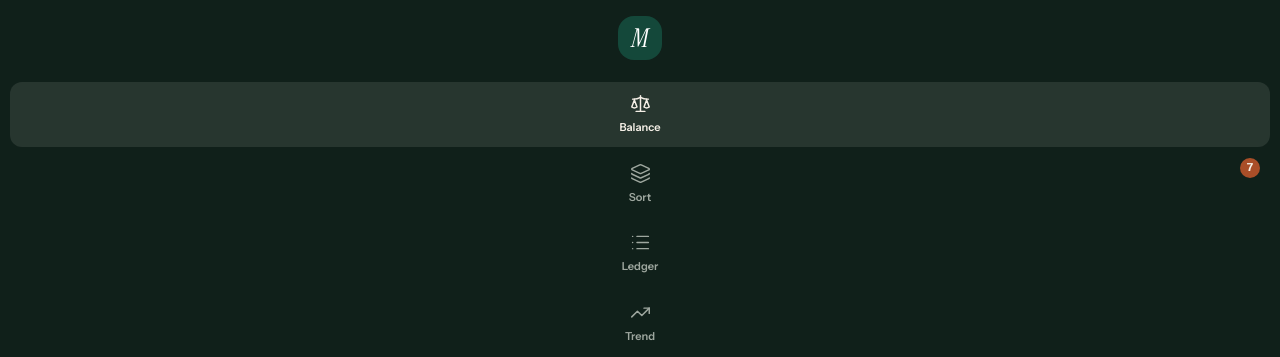
Test: AppRail › exposes four destinations and keeps the review badge on Sort
Expected: the text with class "app-rail-badge" reads "7", [1247,160,1253,174]
Click the button "Ledger" at [640, 253], box [10,221,1270,286]
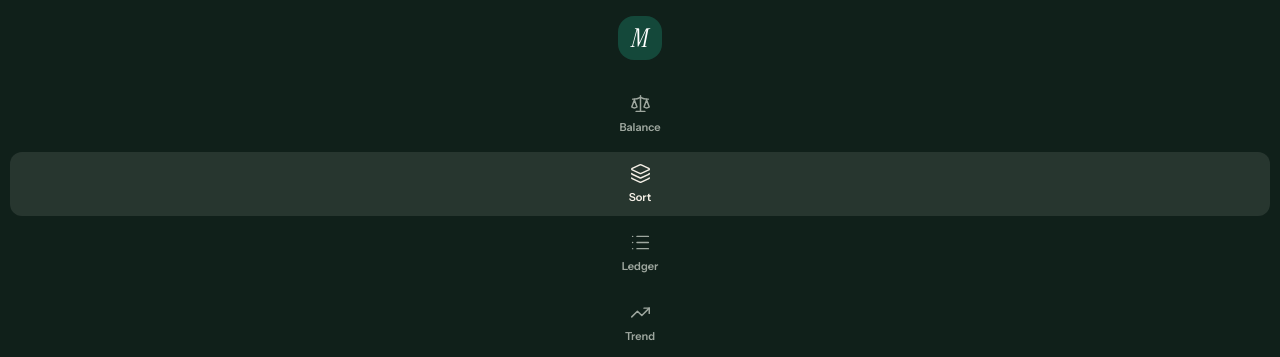
Expected: the text with class "app-rail-badge" is gone
